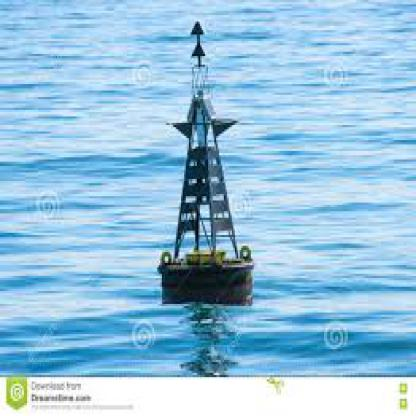buoy: (151, 15, 260, 310)
